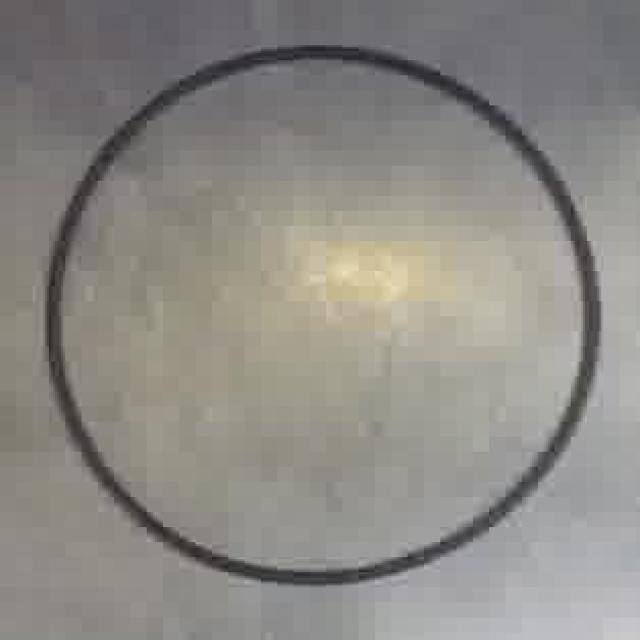Circle: (41, 42, 604, 586)
